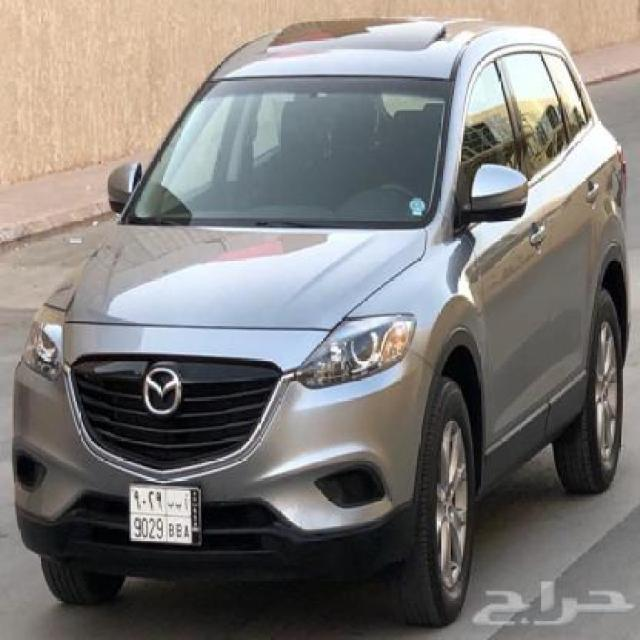license_plate: (127, 479, 202, 550)
